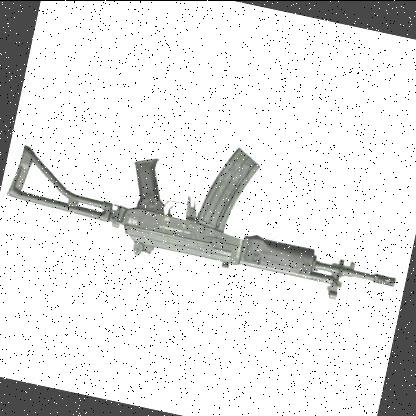rifle: (0, 99, 416, 352)
